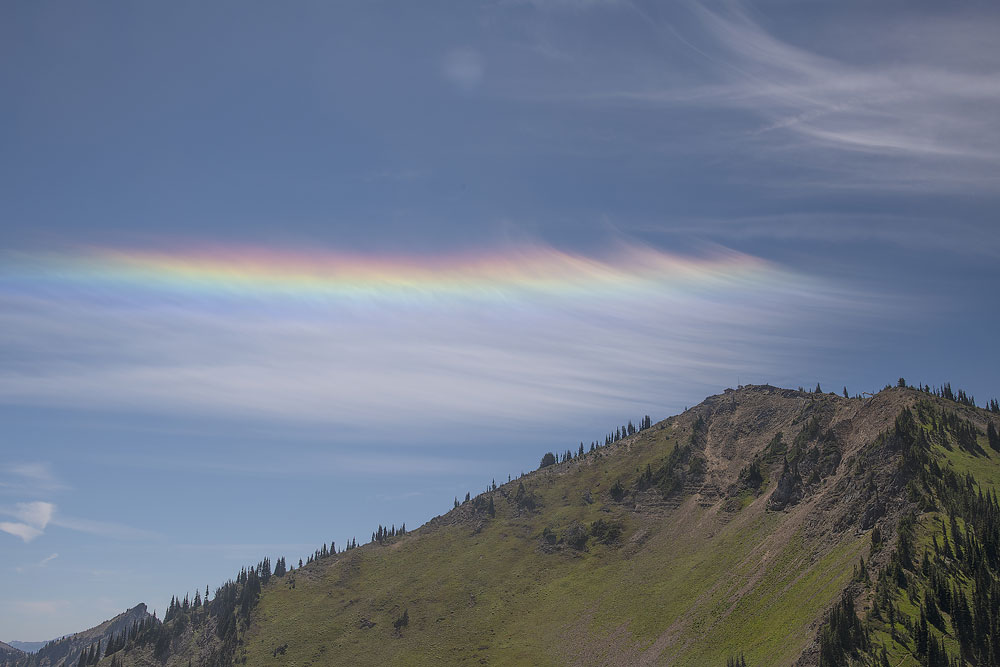Cirrus: (603, 8, 987, 197)
Stratus: (7, 220, 839, 417)
